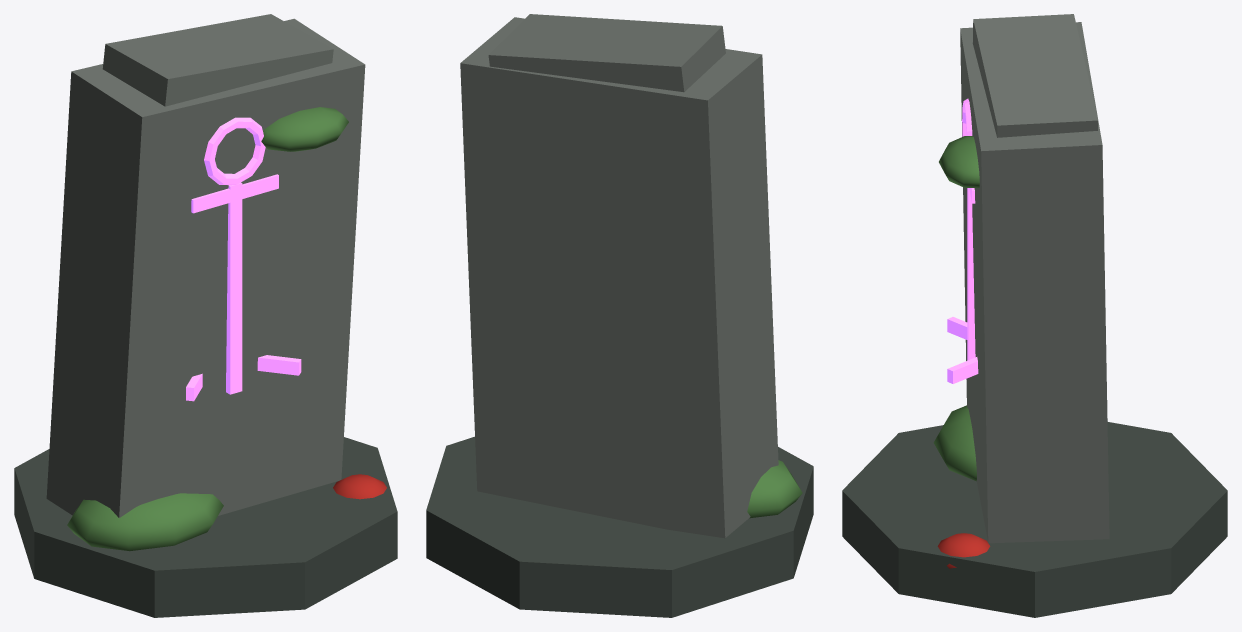
The model's file is Build_Lobby_MapStone_EclipseCitadel.glb.
The picture shows the model from 3 angles, left to right: view 1: azimuth 30°, elevation 25°; view 2: azimuth 150°, elevation 25°; view 3: azimuth 270°, elevation 25°; orthographic projection. The views are drawn at different scales.
Parts seen in each view (by area): view 1: Build_Lobby_MapStone_EclipseCitadel; view 2: Build_Lobby_MapStone_EclipseCitadel; view 3: Build_Lobby_MapStone_EclipseCitadel.
Part boxes in pixels (left/top/right/bottom): Build_Lobby_MapStone_EclipseCitadel: left=14, top=14, right=397, bottom=617; Build_Lobby_MapStone_EclipseCitadel: left=426, top=14, right=813, bottom=617; Build_Lobby_MapStone_EclipseCitadel: left=842, top=14, right=1227, bottom=617.
Bounding box in the file's own units: 3.8 × 5.27 × 3.8.
